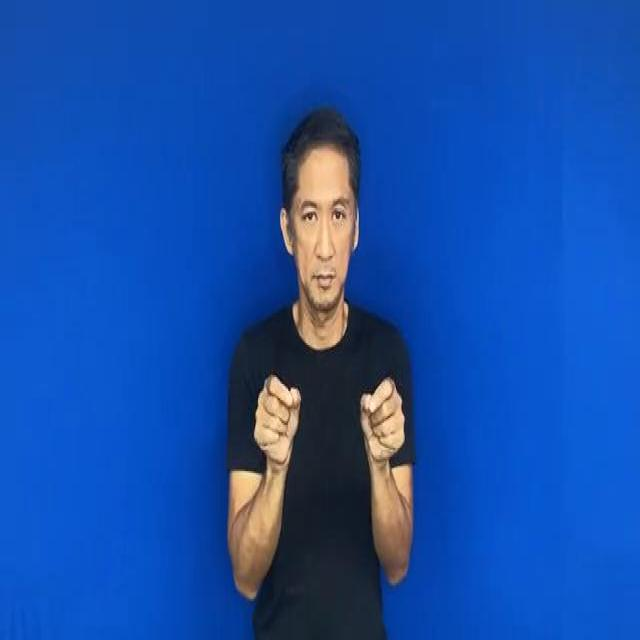crab: (350, 365, 420, 486), (247, 358, 304, 471)
